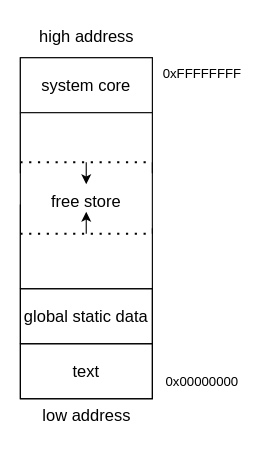
Image size: 270x450. Some labels were removed from this diagram. Here are the shapes that lost their labels. From the top down, the centre of each, then its label:
At pixel 86 137: "stack".
At pixel 86 260: "heap".
